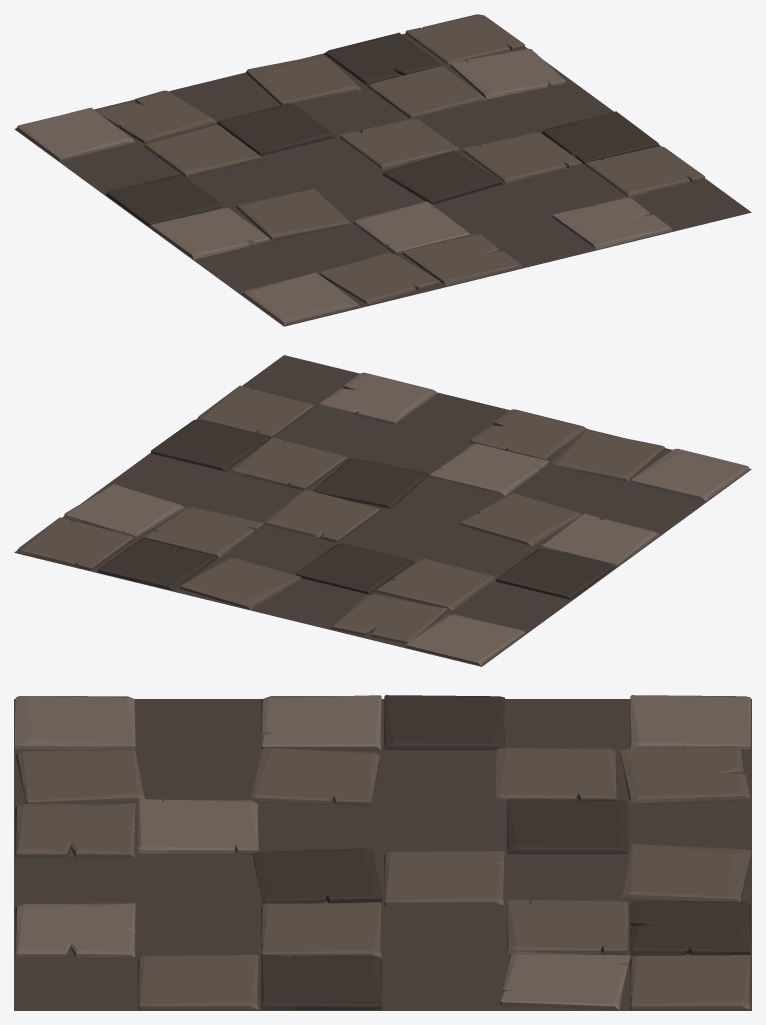
File: Slab2.fbx
The picture shows the model from 3 angles, top to bottom: view 1: azimuth 30°, elevation 25°; view 2: azimuth 150°, elevation 25°; view 3: azimuth 270°, elevation 25°; orthographic projection. The views are drawn at different scales.
Visible parts, largest first — view 1: Losa2; view 2: Losa2; view 3: Losa2.
Part boxes in pixels (<box>): Losa2: <box>14,14,751,326</box>; Losa2: <box>14,355,751,666</box>; Losa2: <box>14,695,751,1010</box>.
Size of the model in its own units: 600 by 4.88 by 600.
